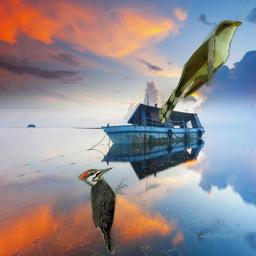Cuckoo: (159, 20, 242, 123)
Woodpecker: (78, 167, 128, 254)
